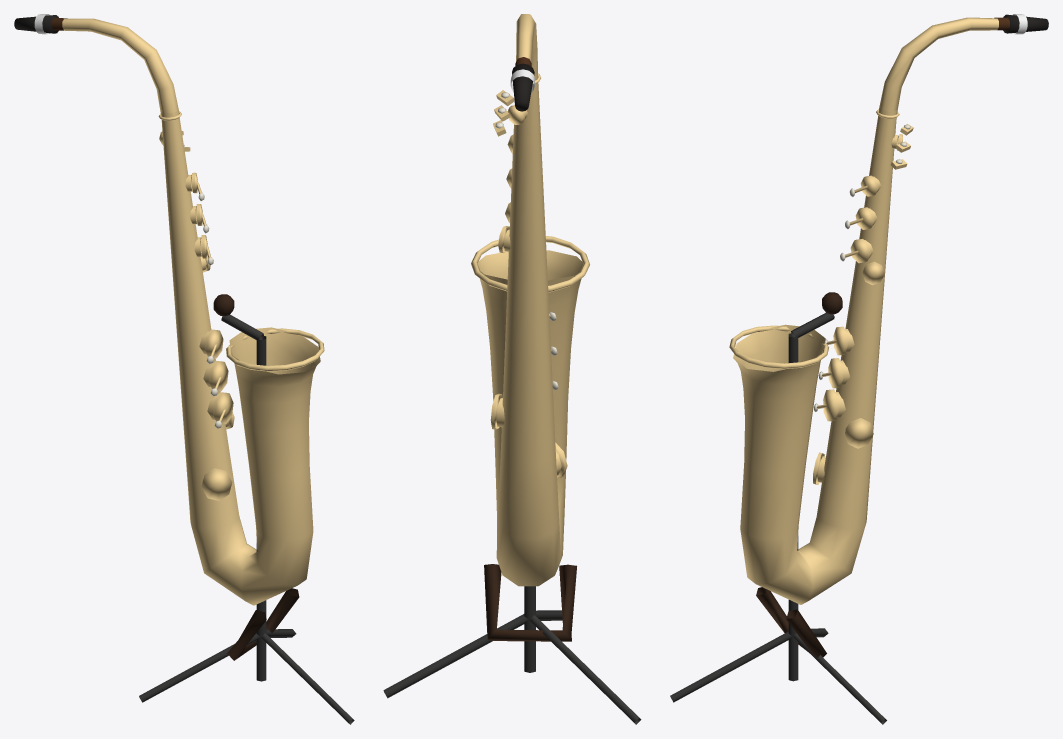
Rendered from instr_sax_stand.lite.glb.
The picture shows the model from 3 angles, left to right: view 1: azimuth 30°, elevation 25°; view 2: azimuth 150°, elevation 25°; view 3: azimuth 270°, elevation 25°; orthographic projection. The views are drawn at different scales.
Visible parts, largest first — view 1: sax_saxbrass, saxstand_blackmetal, saxstand_leather; view 2: sax_saxbrass, saxstand_blackmetal, saxstand_leather, sax_ebony; view 3: sax_saxbrass, saxstand_blackmetal, saxstand_leather.
Boxes of the visible parts, box(x1,y1,x2,y2) form: sax_saxbrass: box(62, 18, 324, 605); saxstand_blackmetal: box(139, 314, 354, 724); saxstand_leather: box(213, 294, 299, 660); sax_saxbrass: box(471, 14, 589, 586); saxstand_blackmetal: box(383, 586, 641, 724); saxstand_leather: box(484, 564, 576, 641); sax_ebony: box(512, 63, 534, 111); sax_saxbrass: box(729, 17, 998, 604); saxstand_blackmetal: box(670, 313, 886, 724); saxstand_leather: box(756, 292, 842, 657).
Bounding box in the file's own units: 0.3706 × 1.1 × 0.5992.
